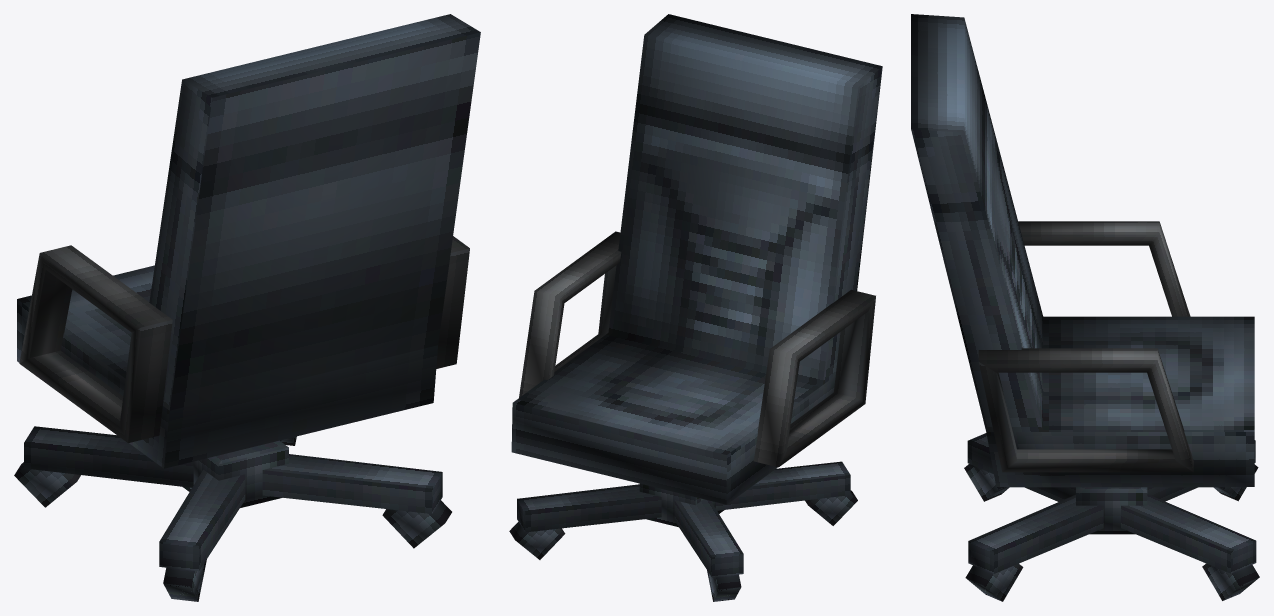
The model's file is c_SCchair02.glb.
3 renders of one model, left to right at view 1: azimuth 30°, elevation 25°; view 2: azimuth 150°, elevation 25°; view 3: azimuth 270°, elevation 25°, orthographic. The views are drawn at different scales.
Visible parts, largest first — view 1: c_SCchair02; view 2: c_SCchair02; view 3: c_SCchair02.
Boxes of the visible parts, box(x1,y1,x2,y2) form: c_SCchair02: box(14, 14, 480, 601); c_SCchair02: box(509, 14, 882, 601); c_SCchair02: box(911, 14, 1259, 601).
Size of the model in its own units: 0.7006 by 1.11 by 0.7352.
1 material, 1 textured.
